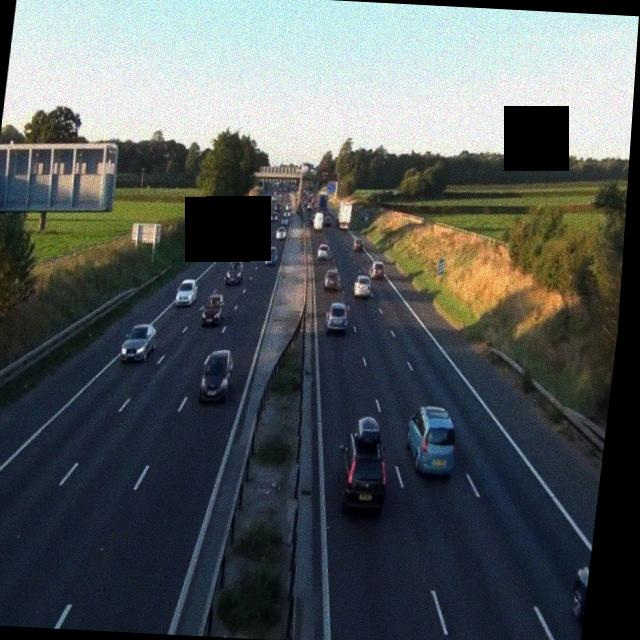car: (337, 417, 394, 512), (402, 406, 459, 477), (198, 349, 236, 404), (566, 564, 589, 640), (120, 322, 158, 364), (200, 290, 227, 326), (324, 302, 350, 333), (176, 278, 199, 308), (353, 274, 373, 297), (226, 260, 245, 284), (324, 268, 342, 291), (370, 260, 386, 281), (263, 246, 279, 266), (317, 242, 331, 262), (353, 236, 365, 254), (275, 226, 287, 240), (256, 226, 268, 240)
truck: (336, 199, 356, 230), (314, 192, 330, 224), (248, 207, 263, 228)
